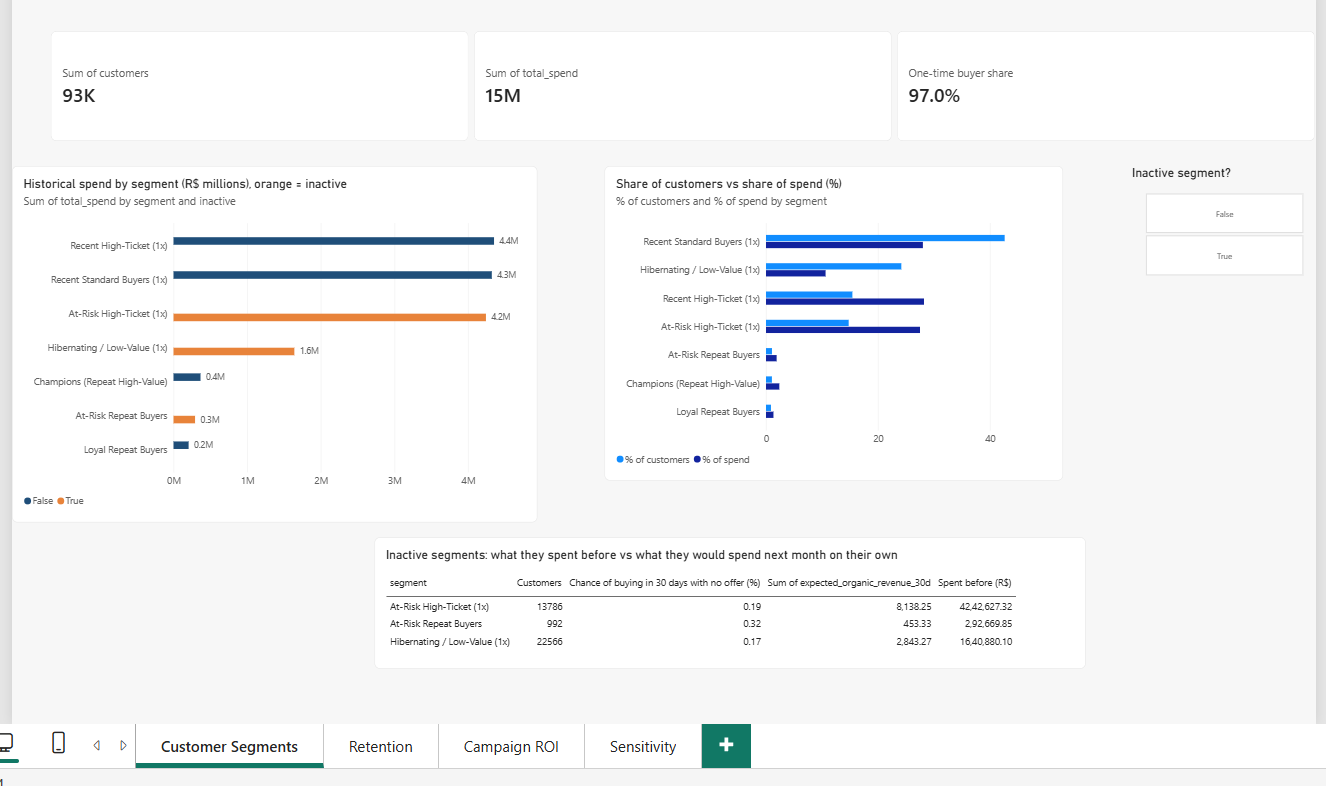

The dashboard page shown, as its layout file describes it:
{"tool":"powerbi","page":{"name":"Customer Segments","canvas":[1920,1080],"ordinal":0},"visuals":[{"type":"textbox","box":[10,221.5,280,163],"z":1000},{"type":"clusteredBarChart","title":"Historical spend by segment (R$ millions), orange = inactive","fields":{"Category":["segment_summary.segment"],"Series":["segment_summary.inactive"],"Y":["Sum(segment_summary.total_spend)"]},"box":[0,257.3,773.9,524.9],"z":6000},{"type":"clusteredBarChart","title":"Share of customers vs share of spend (%)","fields":{"Category":["segment_summary.segment"],"Y":["Sum(segment_summary.pct_customers)","Sum(segment_summary.pct_revenue)"]},"box":[872.7,257.3,675.1,463.1],"z":7000},{"type":"tableEx","title":"Inactive segments: what they spent before vs what they would spend next month on their own","fields":{"Values":["inactive_segment_spend.segment","Sum(inactive_segment_spend.customers)","Sum(inactive_segment_spend.organic_repurchase_30d_pct)","Sum(inactive_segment_spend.expected_organic_revenue_30d)","Sum(inactive_segment_spend.historical_spend)"]},"box":[533.7,804.3,1047.2,193.3],"z":8000},{"type":"slicer","title":"Inactive segment?","fields":{"Values":["segment_summary.inactive"]},"box":[1648.7,257.3,271,163],"z":9000},{"type":"cardVisual","fields":{"Data":["Sum(segment_summary.customers)","Sum(segment_summary.total_spend)","segment_summary.One-time buyer share"]},"box":[57.6,59.7,1862.8,162.6],"z":9001}]}

Visuals, with their boxes on the page's 1920x1080 design canvas (x1, y1, x2, y2). These are canvas units, not pixel positions in the 1326x786 screenshot, which may show the page scaled, cropped or inside an application window:
textbox: [10, 222, 290, 384]
"Historical spend by segment (R$ millions), orange = inactive" clusteredBarChart: [0, 257, 774, 782]
"Share of customers vs share of spend (%)" clusteredBarChart: [873, 257, 1548, 720]
"Inactive segments: what they spent before vs what they would spend next month on their own" tableEx: [534, 804, 1581, 998]
"Inactive segment?" slicer: [1649, 257, 1920, 420]
cardVisual - Sum(segment_summary.customers) x Sum(segment_summary.total_spend): [58, 60, 1920, 222]
